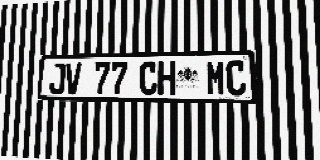7: (110, 62, 128, 95), (93, 62, 110, 95)
C: (226, 60, 246, 96), (139, 62, 157, 95)
H: (158, 61, 176, 95)
J: (49, 63, 66, 94)
M: (206, 60, 226, 96)
V: (65, 63, 82, 94)
